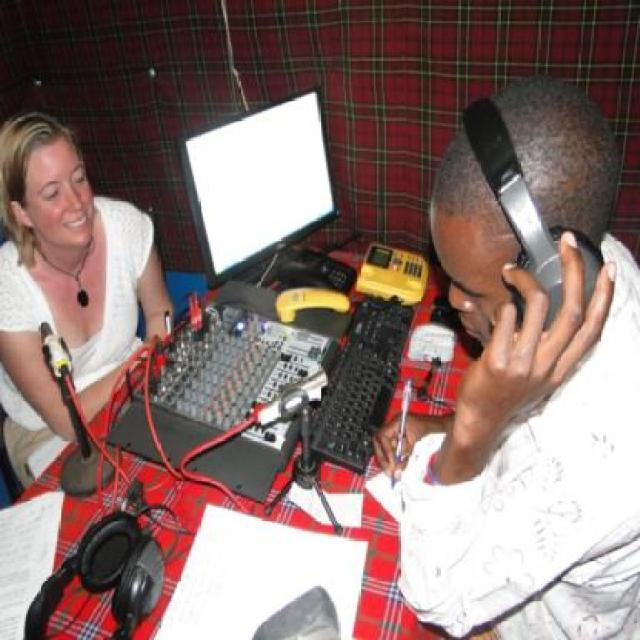earphone: (456, 94, 606, 328), (15, 510, 184, 640)
laptop_computer: (174, 90, 351, 296)
